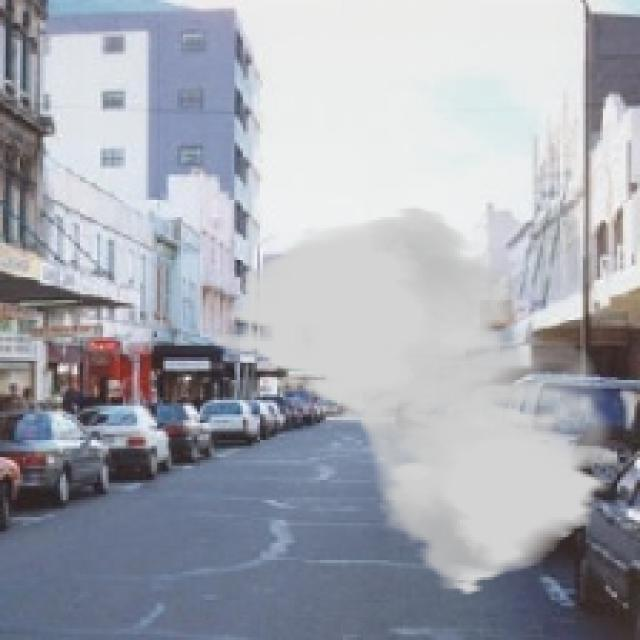Smoke: (215, 205, 620, 598)
